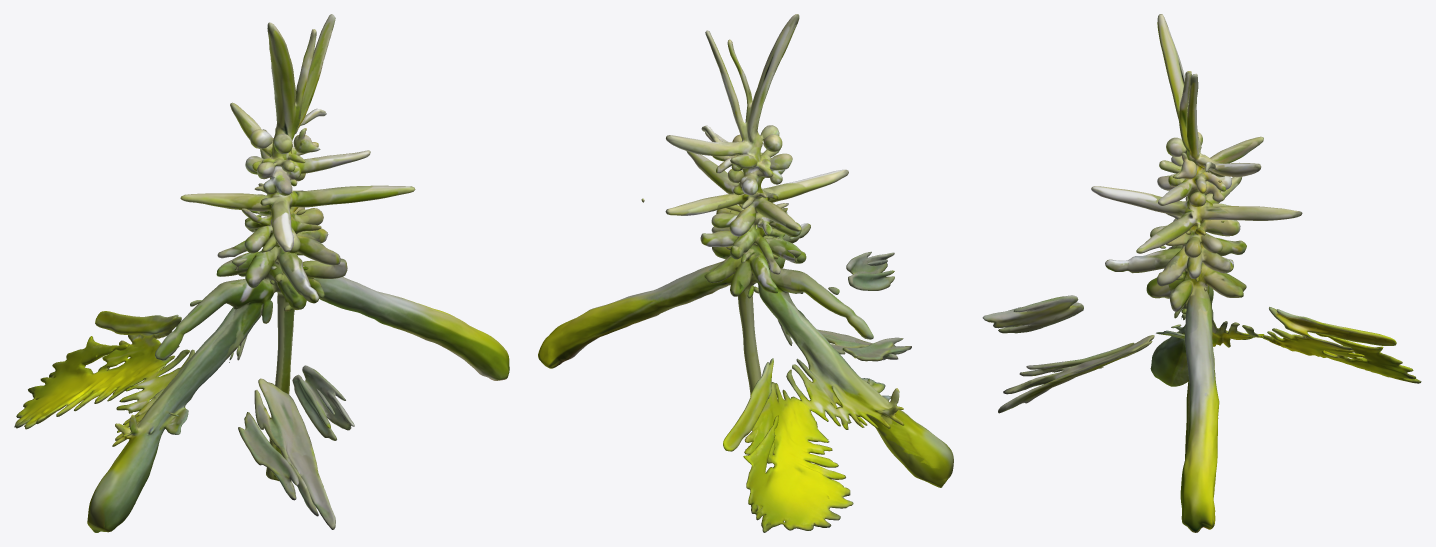
File: herb0039.gltf
3 renders of one model, left to right at view 1: azimuth 30°, elevation 25°; view 2: azimuth 150°, elevation 25°; view 3: azimuth 270°, elevation 25°, orthographic. The views are drawn at different scales.
Visible parts, largest first — view 1: Mesh_0.015; view 2: Mesh_0.015; view 3: Mesh_0.015.
Boxes of the visible parts, left/top/right/bottom form: Mesh_0.015: left=14, top=14, right=509, bottom=532; Mesh_0.015: left=538, top=14, right=953, bottom=532; Mesh_0.015: left=982, top=14, right=1421, bottom=532.
Bounding box in the file's own units: 1.91 × 2 × 1.79.
Materials: 1 (1 with a texture image).
